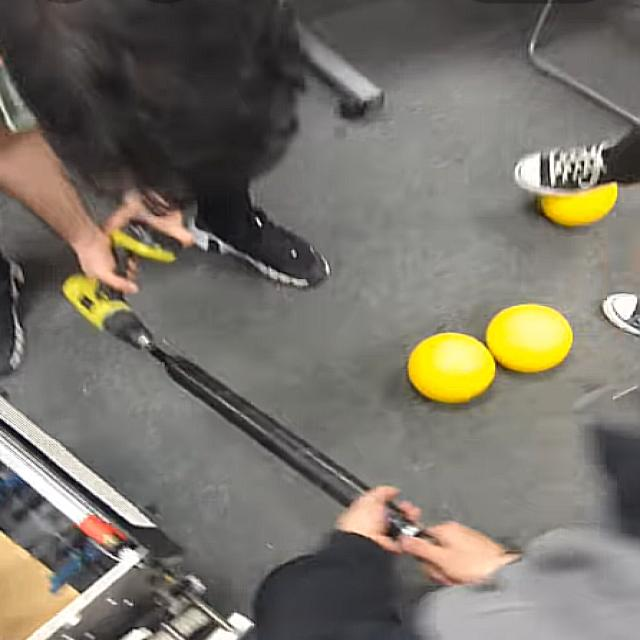Fuel: (407, 332, 495, 403), (408, 333, 495, 403), (485, 304, 571, 372), (538, 183, 619, 227), (538, 184, 617, 226)
